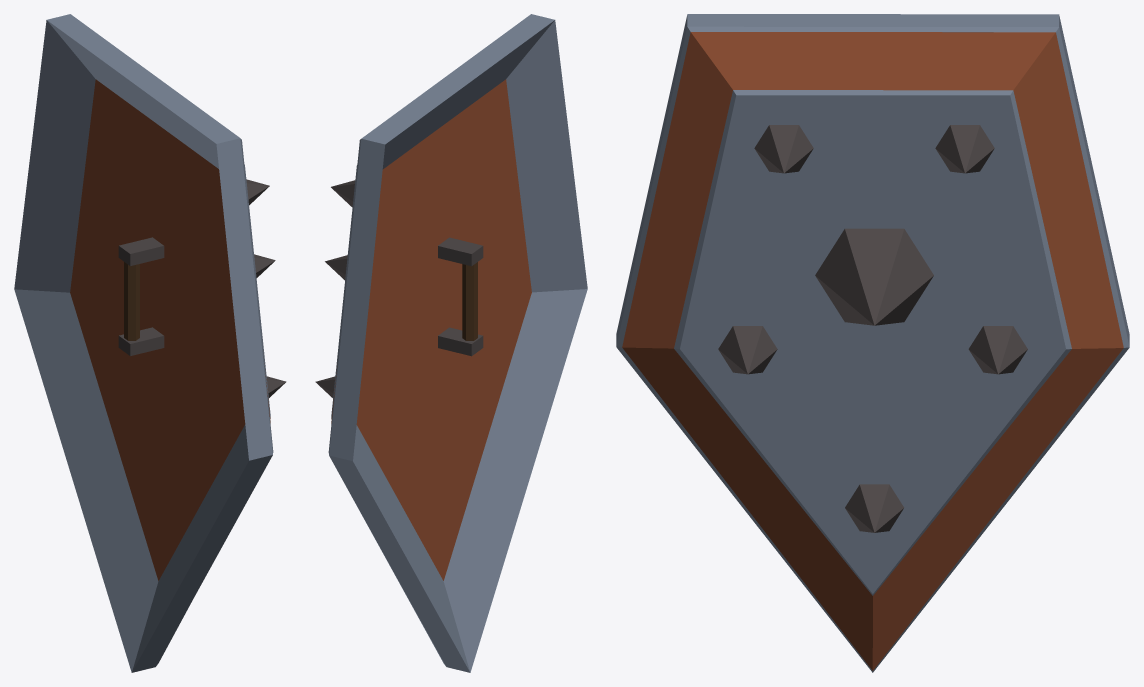
The model's file is Dagger4_2.fbx.
3 views of the same model, side by side, from view 1: azimuth 30°, elevation 25°; view 2: azimuth 150°, elevation 25°; view 3: azimuth 270°, elevation 25° (orthographic). The views are drawn at different scales.
Visible parts, largest first — view 1: Shield; view 2: Shield; view 3: Shield.
Boxes of the visible parts, x1=… form: Shield: x1=14, y1=14, x2=286, y2=672; Shield: x1=315, y1=14, x2=587, y2=672; Shield: x1=616, y1=14, x2=1129, y2=672.
Size of the model in its own units: 13.14 by 35.1 by 48.74.
1 material, 1 textured.
